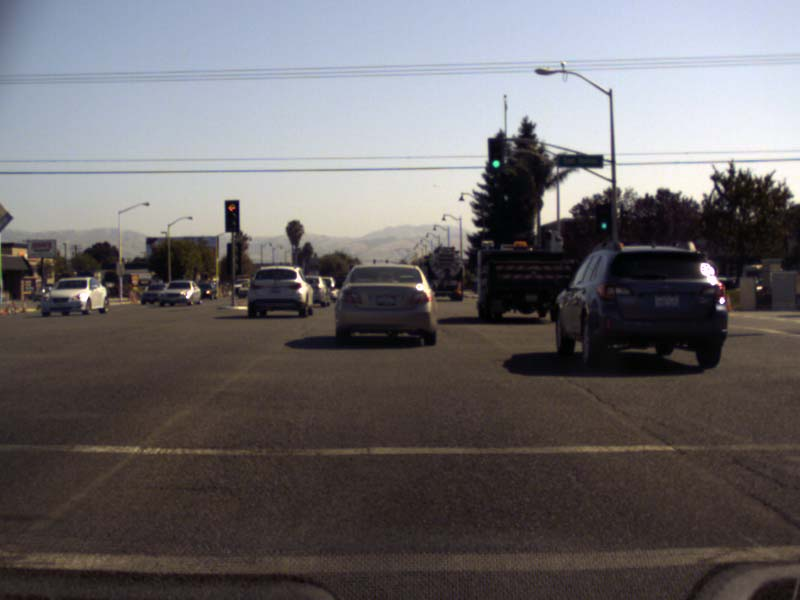Green: (490, 139, 501, 168), (598, 206, 610, 232)
Red: (225, 200, 238, 231)
